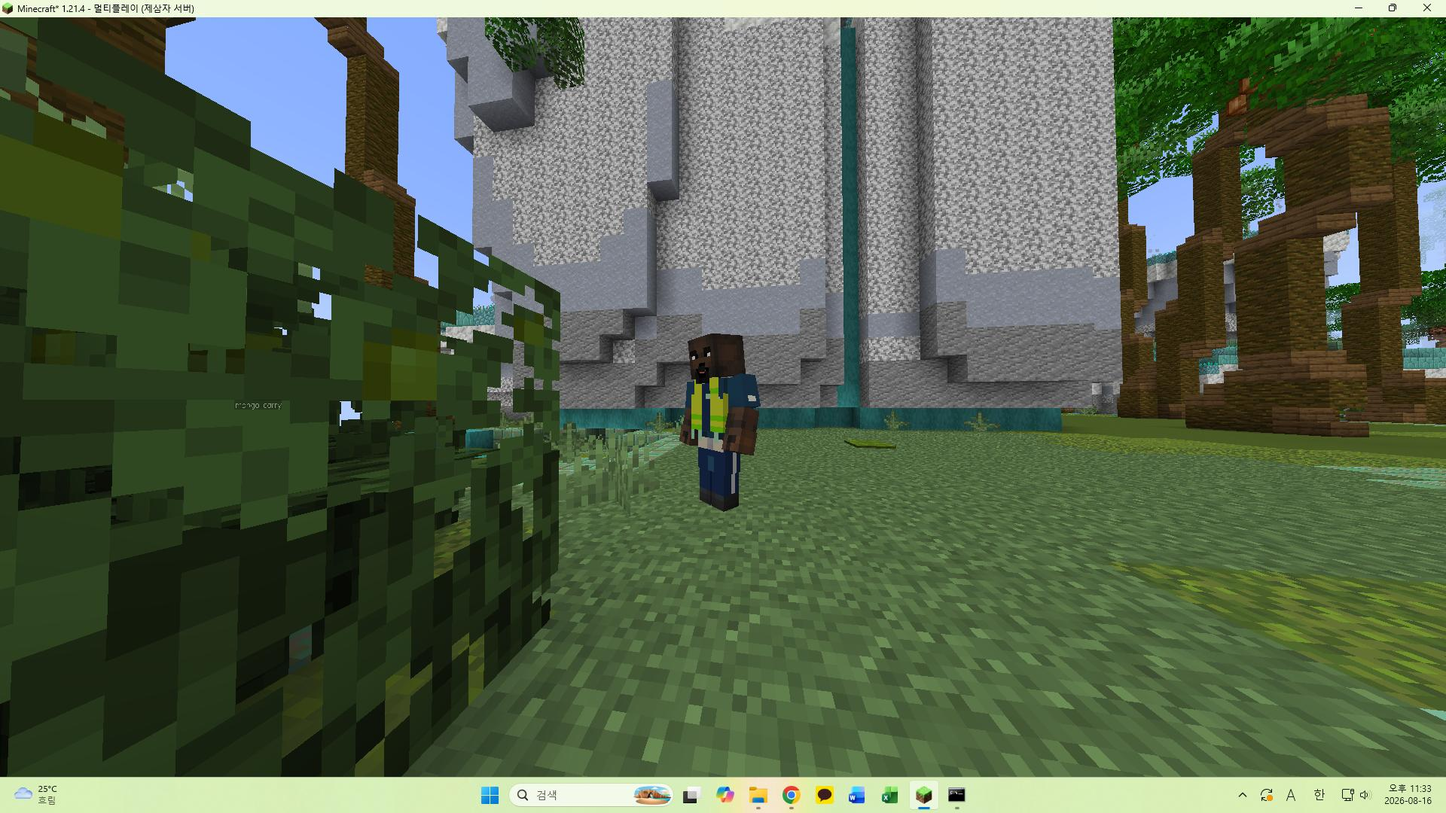Guardian: (679, 333, 758, 510)
